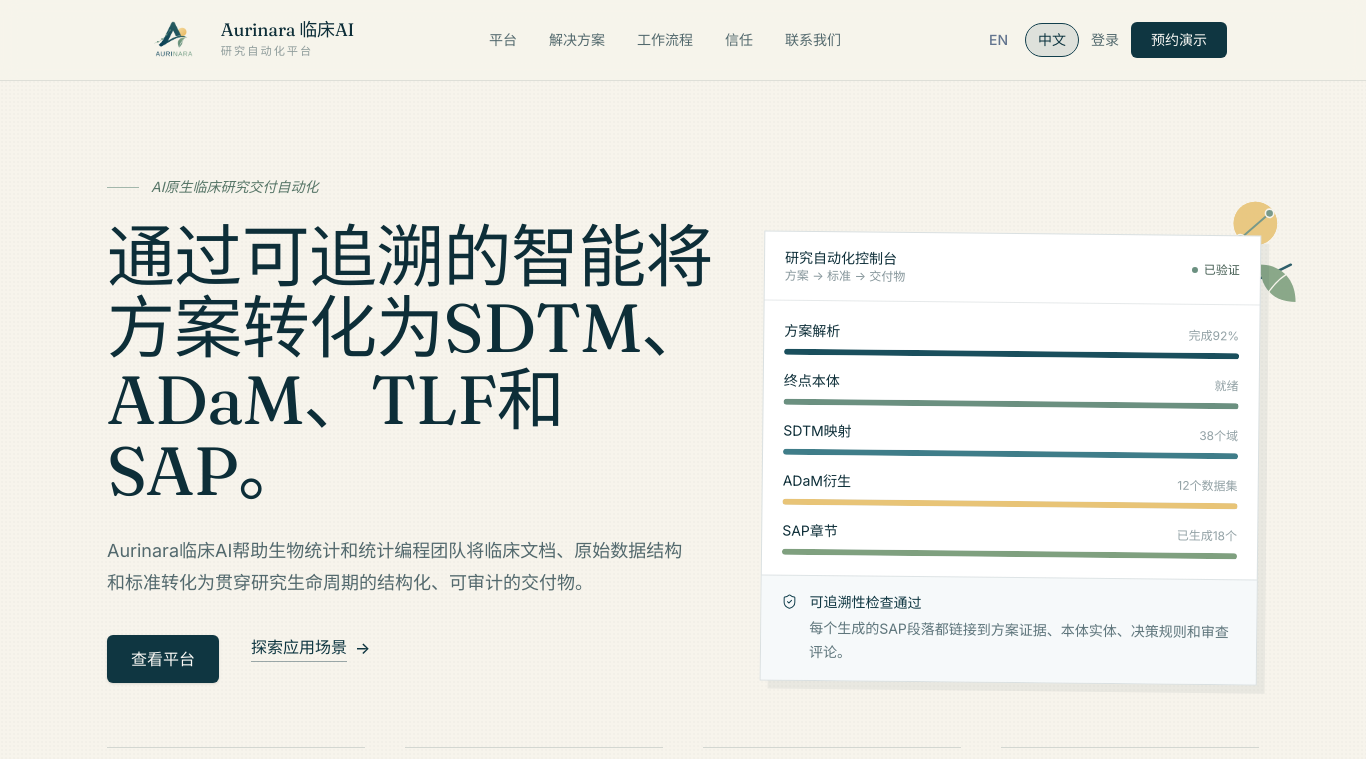
Test: Routing integration tests › Language persists across route navigation › navigating from / to /platform keeps Chinese language active
Check: the text "研究自动化控制台" is shown, box [785, 247, 906, 268]
Click the nav link (first occurrence in the header nav)
Click the link "平台" at [503, 40], box [489, 30, 517, 50]
(page scrolled)
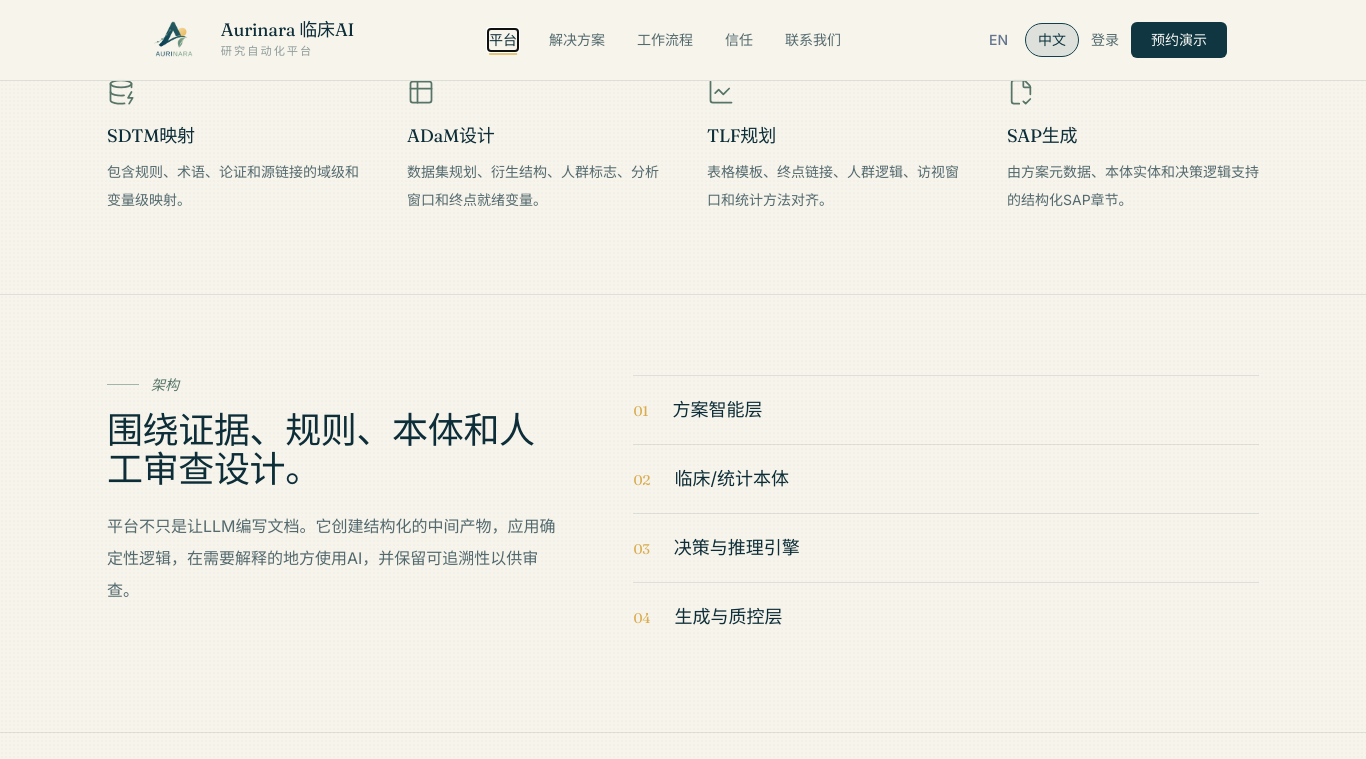
Check: the text "架构" is shown, box [151, 375, 179, 395]
